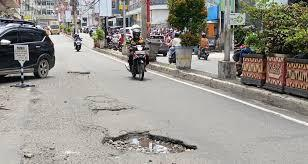Pothole: (97, 124, 198, 161), (10, 137, 87, 164), (59, 68, 111, 79), (89, 102, 133, 106)
